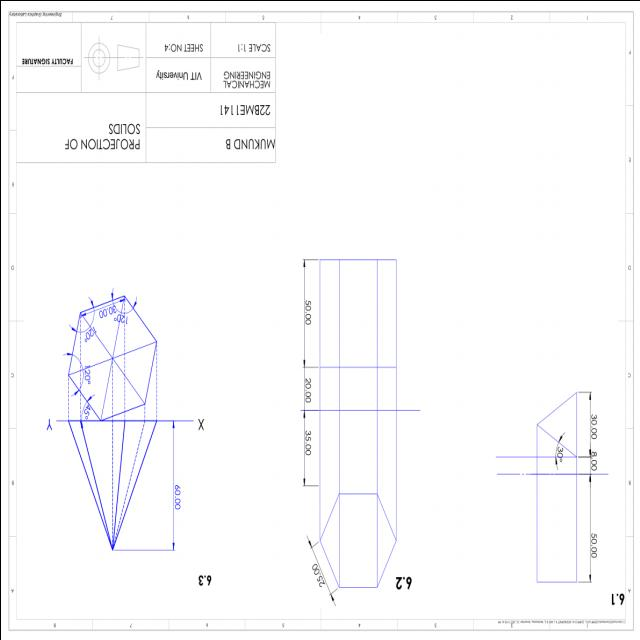Drawings: (522, 385, 610, 587)
